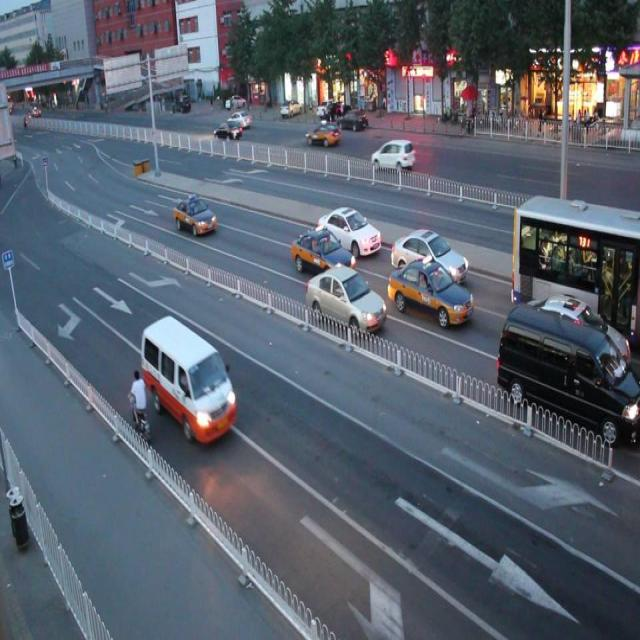car: (514, 293, 629, 392), (388, 260, 474, 330), (306, 267, 386, 334), (390, 228, 467, 283), (291, 225, 354, 282), (316, 204, 381, 254), (176, 194, 216, 235), (370, 140, 414, 172), (306, 122, 340, 145), (214, 120, 242, 143)
truck: (496, 300, 640, 446), (142, 314, 237, 443)
van: (510, 193, 640, 350)
